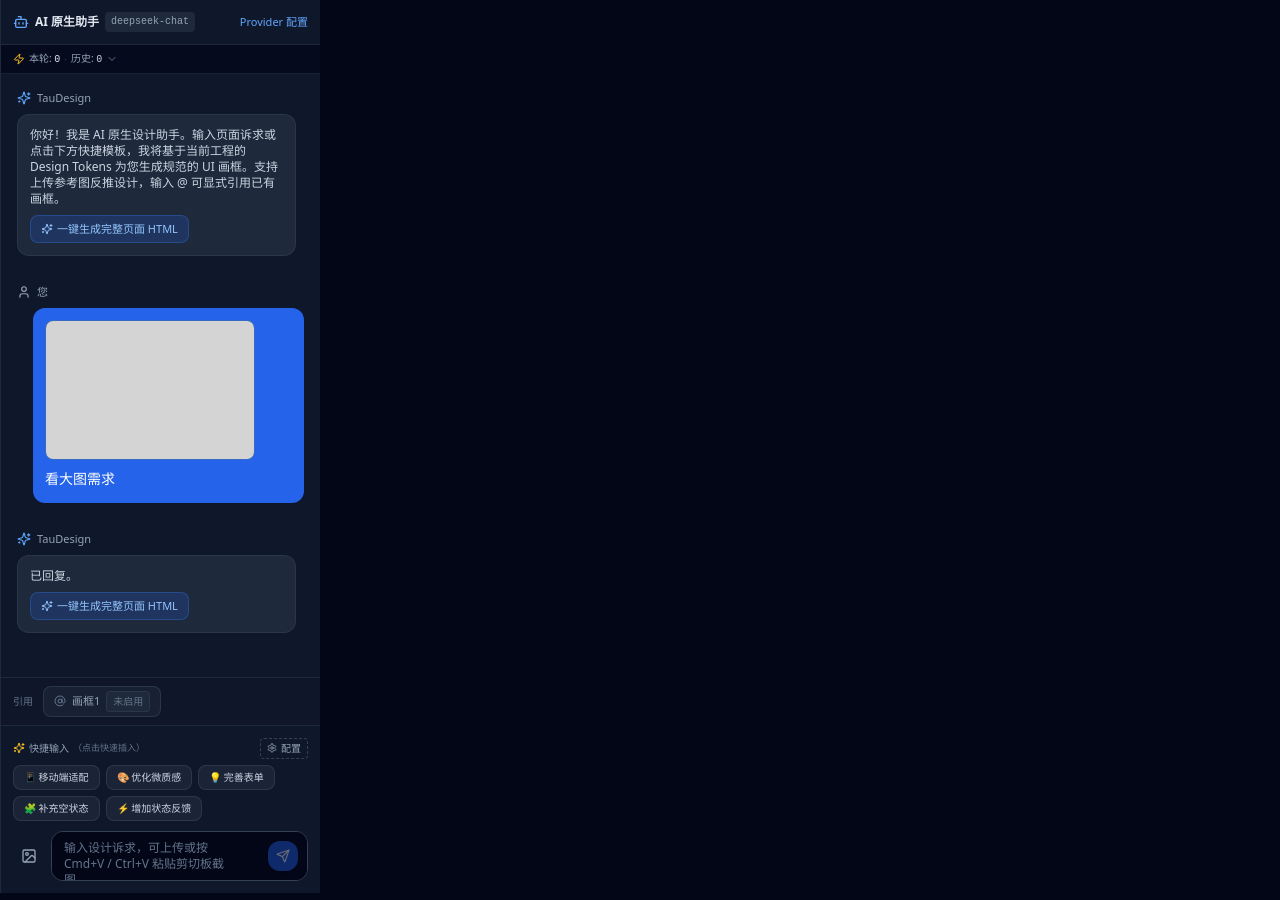
对话历史附件缩略图与点击放大 (Chat Image Preview & Lightbox) › CHK-F-02 ~ CHK-F-04: 缩略图点击放大与 Lightbox 模态框交互 › 点击缩略图成功弹出大图模态框，并可通过关闭按钮关闭
Click the element named "点击放大查看原图" at (150, 390), box [45,320,255,460]
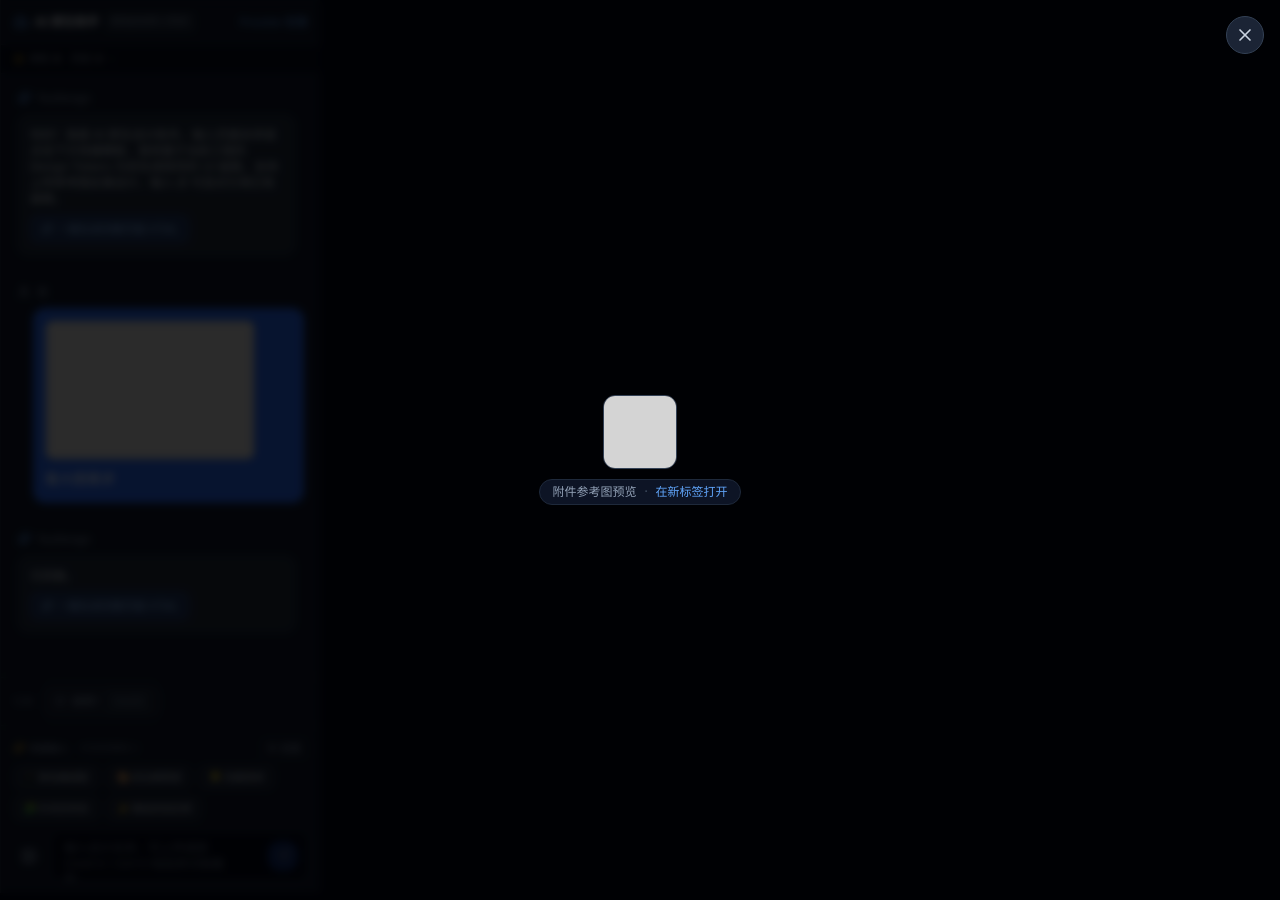
Expected: the element with test id "image-lightbox-modal" is shown
Expected: the button with test id "close-lightbox-btn" is shown
Click the button with test id "close-lightbox-btn" at (1245, 35), box [1226,16,1264,54]
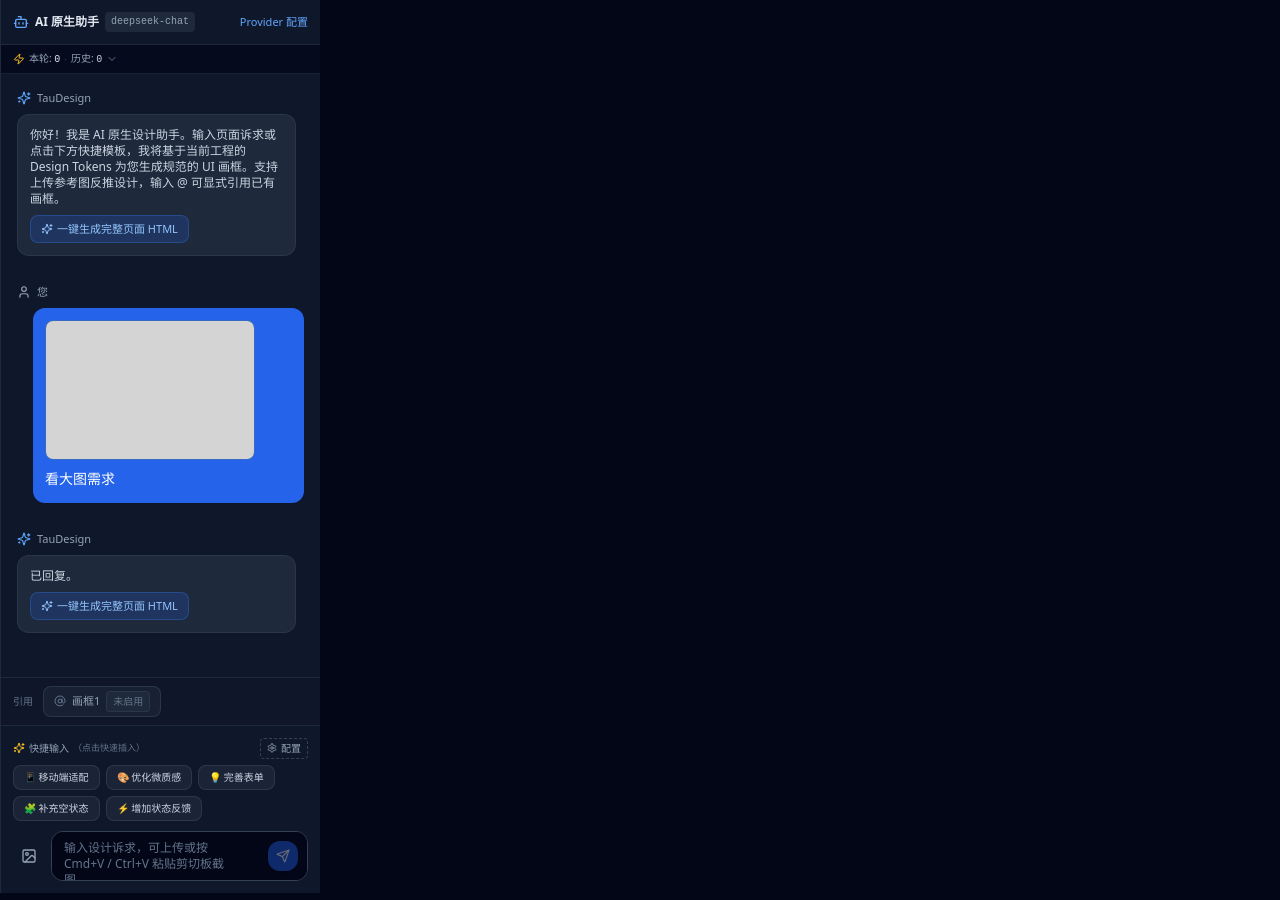
Expected: the element with test id "image-lightbox-modal" is gone
